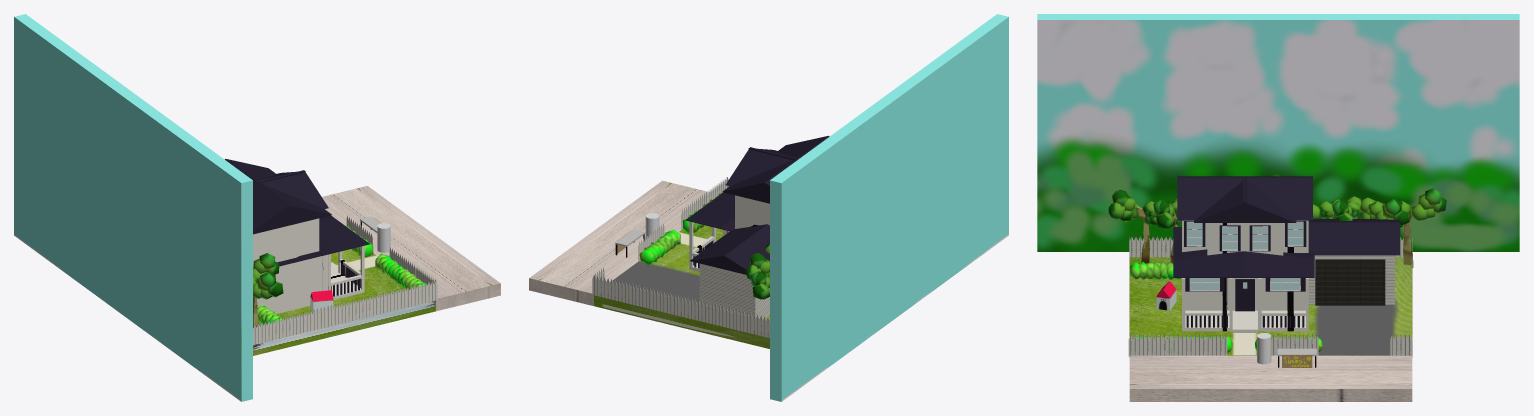
The model's file is lemonade game first level.fbx.
3 renders of one model, left to right at view 1: azimuth 30°, elevation 25°; view 2: azimuth 150°, elevation 25°; view 3: azimuth 270°, elevation 25°, orthographic. The views are drawn at different scales.
Visible parts, largest first — view 1: Cube, LAWN.001, house wall, LAWN, picket fence.003, ROOF BIG.001, ROOF SMALL, tree, ROOF TOP SMALL, bushes, picket fence, doghouse; view 2: Cube, LAWN.001, LAWN, picket fence.005, garage, ROOF BIG.002, ROOF BIG.001, house wall, ROOF TOP SMALL, ROOF SMALL, tree, bushes.001 (+1 smaller); view 3: Cube, LAWN.001, LAWN, house wall, tree, ROOF BIG.001, ROOF SMALL, ROOF BIG.002, GARAGE DOOR, ROOF TOP SMALL, picket fence, WINDOW.001 (+11 smaller).
Part boxes in pixels (x1,y1,x2,y2): Cube: (14, 14, 252, 401); LAWN.001: (322, 186, 500, 311); house wall: (253, 218, 364, 313); LAWN: (253, 249, 435, 355); picket fence.003: (253, 280, 437, 344); ROOF BIG.001: (225, 159, 331, 234); ROOF SMALL: (277, 215, 369, 266); tree: (253, 253, 283, 327); ROOF TOP SMALL: (255, 170, 328, 209); bushes: (257, 253, 427, 325); picket fence: (346, 215, 415, 276); doghouse: (310, 290, 333, 312); Cube: (770, 14, 1008, 401); LAWN.001: (529, 180, 709, 305); LAWN: (594, 225, 769, 348); picket fence.005: (592, 274, 769, 338); garage: (699, 263, 769, 319); ROOF BIG.002: (690, 224, 769, 274); ROOF BIG.001: (722, 135, 829, 203); house wall: (689, 195, 769, 271); ROOF TOP SMALL: (725, 147, 798, 186); ROOF SMALL: (685, 192, 734, 231); tree: (745, 244, 769, 320); bushes.001: (639, 229, 680, 264); Cube: (1037, 14, 1519, 251); LAWN.001: (1129, 355, 1412, 401); LAWN: (1129, 257, 1412, 355); house wall: (1182, 220, 1308, 332); tree: (1108, 174, 1446, 267); ROOF BIG.001: (1177, 176, 1312, 220); ROOF SMALL: (1173, 227, 1314, 277); ROOF BIG.002: (1291, 219, 1400, 255); GARAGE DOOR: (1315, 259, 1385, 305); ROOF TOP SMALL: (1194, 177, 1296, 222); picket fence: (1171, 334, 1318, 355); WINDOW.001: (1219, 225, 1270, 251).
Bounding box in the file's own units: 5200 × 3588 × 6760.
